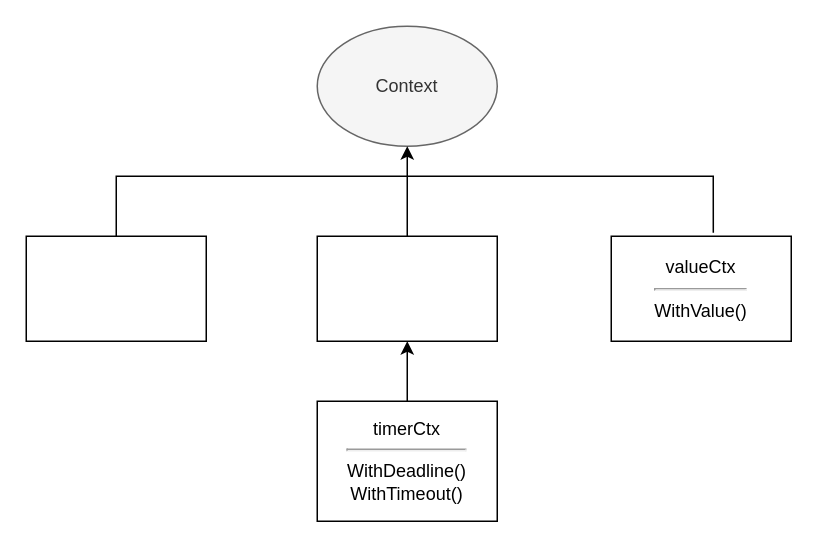
Image size: 818x548. Some labels were removed from this diagram. The shapes that lost their labels are listed below. From the top down, each one's centre as x and y in pixels, then its label:
At (115,288): "emptyCtx Backgroud() TODO()".
At (406,288): "cancelCtx WithCancel()".
